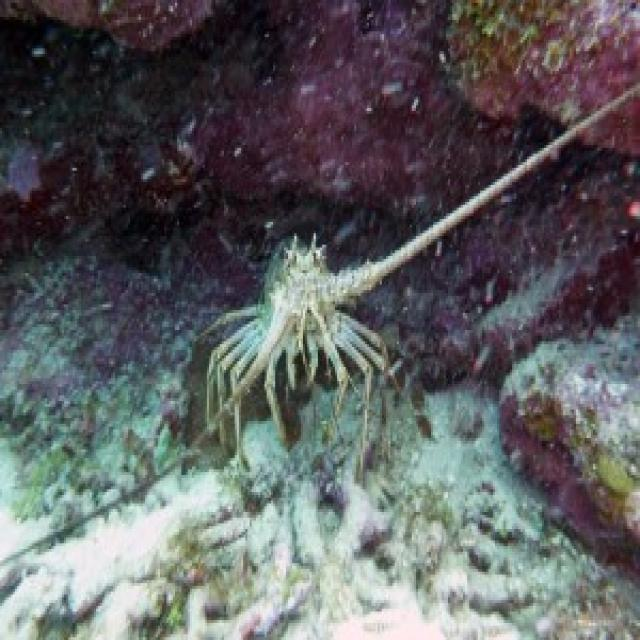lobsters: (161, 74, 544, 528)
